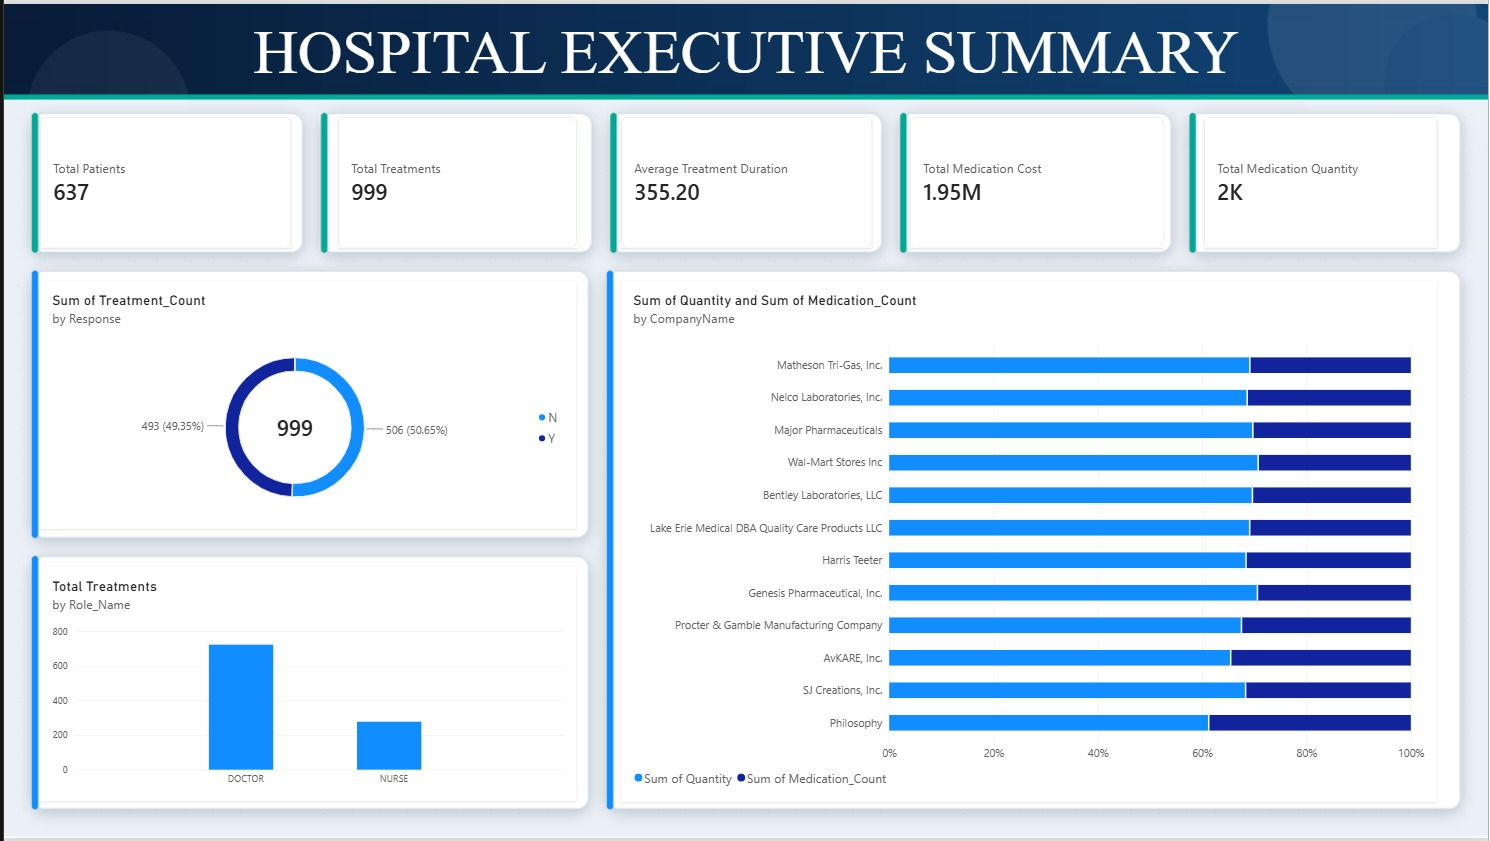

The page's visual inventory and layout, read from the dashboard file:
{"tool":"powerbi","page":{"name":"Executive Summary","canvas":[1920,1080],"ordinal":0},"visuals":[{"type":"cardVisual","fields":{"Data":["BI vw_TreatmentAnalysis.Total Patients"]},"box":[47.1,146.1,325.2,169.7],"z":0},{"type":"cardVisual","fields":{"Data":["BI vw_TreatmentAnalysis.Total Treatments"]},"box":[432.1,146.1,309.5,169.7],"z":1000},{"type":"cardVisual","fields":{"Data":["BI vw_TreatmentAnalysis.Average Treatment Duration"]},"box":[798.2,146.1,325.2,169.7],"z":2000},{"type":"cardVisual","fields":{"Data":["BI vw_MedicationAnalysis.Total Medication Cost"]},"box":[1172.1,146.1,328.4,169.7],"z":3000},{"type":"cardVisual","fields":{"Data":["BI vw_MedicationAnalysis.Total Medication Quantity"]},"box":[1552.3,146.1,301.7,169.7],"z":4000},{"type":"donutChart","fields":{"Category":["BI vw_TreatmentAnalysis.Response"],"Y":["Sum(BI vw_TreatmentAnalysis.Treatment_Count)"]},"box":[47.1,358.2,694.5,320.5],"z":5000},{"type":"clusteredColumnChart","fields":{"Category":["BI vw_TreatmentAnalysis.Role_Name"],"Y":["BI vw_TreatmentAnalysis.Total Treatments"]},"box":[47.1,729,694.5,303.2],"z":6000},{"type":"hundredPercentStackedBarChart","fields":{"Category":["BI vw_MedicationAnalysis.CompanyName"],"Y":["Sum(BI vw_MedicationAnalysis.Quantity)","Sum(BI vw_MedicationAnalysis.Medication_Count)"]},"box":[798.2,358.2,1055.8,674],"z":7000},{"type":"textbox","box":[0,17.3,1920,91.1],"z":8000}]}

Visuals, with their boxes in screenshot pixels (x1, y1, x2, y2), scaled from the page's 1920x1080 canvas onto the 1490x841 screenshot:
cardVisual - BI vw_TreatmentAnalysis.Total Patients: rect(37, 114, 289, 246)
cardVisual - BI vw_TreatmentAnalysis.Total Treatments: rect(335, 114, 576, 246)
cardVisual - BI vw_TreatmentAnalysis.Average Treatment Duration: rect(619, 114, 872, 246)
cardVisual - BI vw_MedicationAnalysis.Total Medication Cost: rect(910, 114, 1164, 246)
cardVisual - BI vw_MedicationAnalysis.Total Medication Quantity: rect(1205, 114, 1439, 246)
donutChart - BI vw_TreatmentAnalysis.Response x Sum(BI vw_TreatmentAnalysis.Treatment_Count): rect(37, 279, 576, 529)
clusteredColumnChart - BI vw_TreatmentAnalysis.Role_Name x BI vw_TreatmentAnalysis.Total Treatments: rect(37, 568, 576, 804)
hundredPercentStackedBarChart - BI vw_MedicationAnalysis.CompanyName x Sum(BI vw_MedicationAnalysis.Quantity): rect(619, 279, 1439, 804)
textbox: rect(0, 13, 1489, 84)
